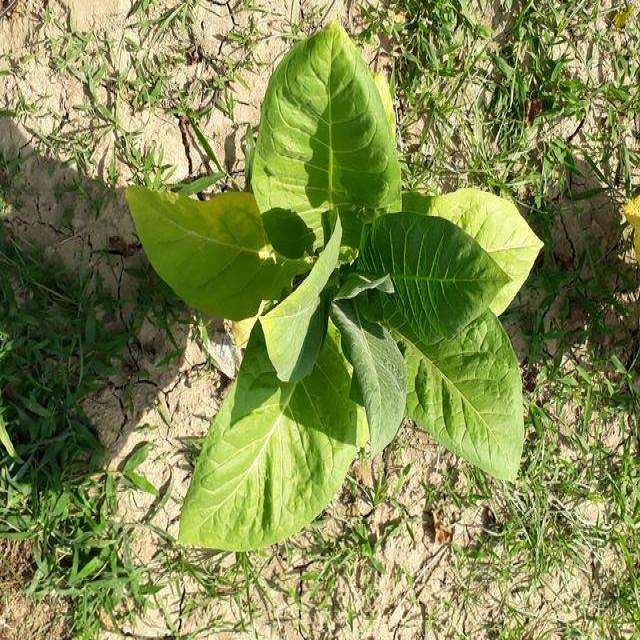crop: (126, 25, 520, 548)
